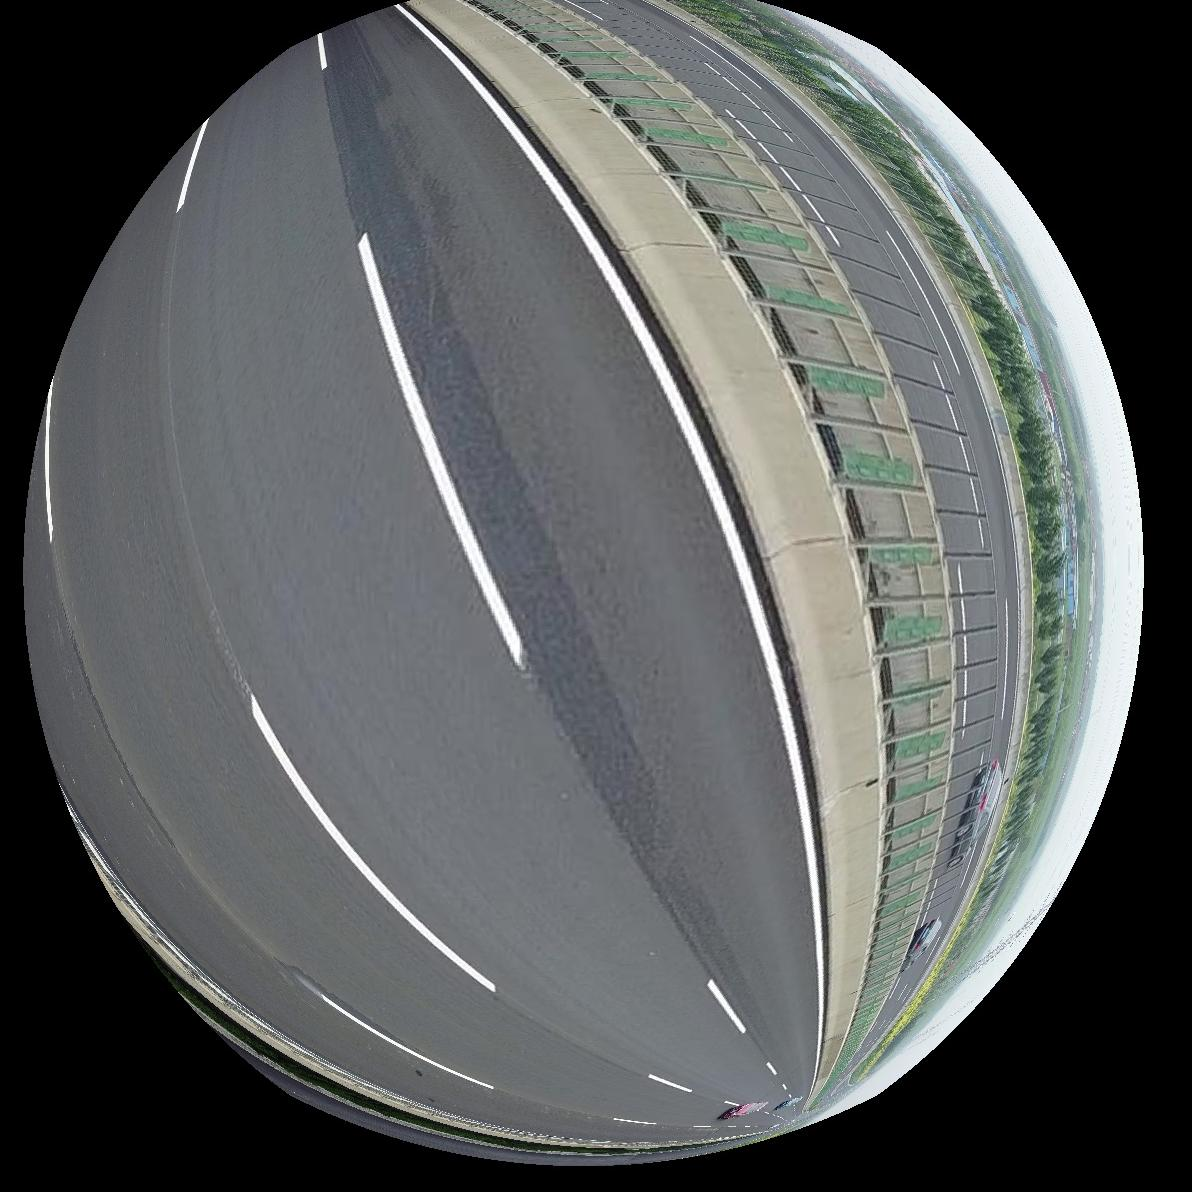cars: (950, 760, 1003, 869), (900, 919, 942, 973), (716, 1104, 766, 1122), (774, 1098, 802, 1111)
